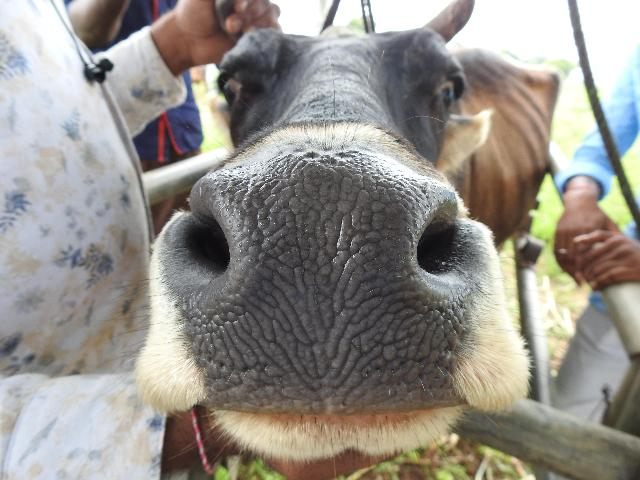Muzzle: (240, 170, 412, 384)
